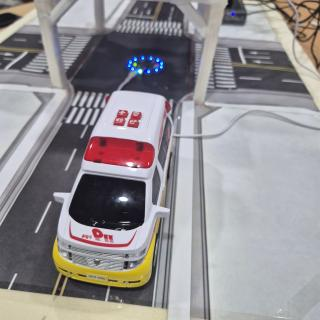Ambulance: (53, 91, 174, 288)
